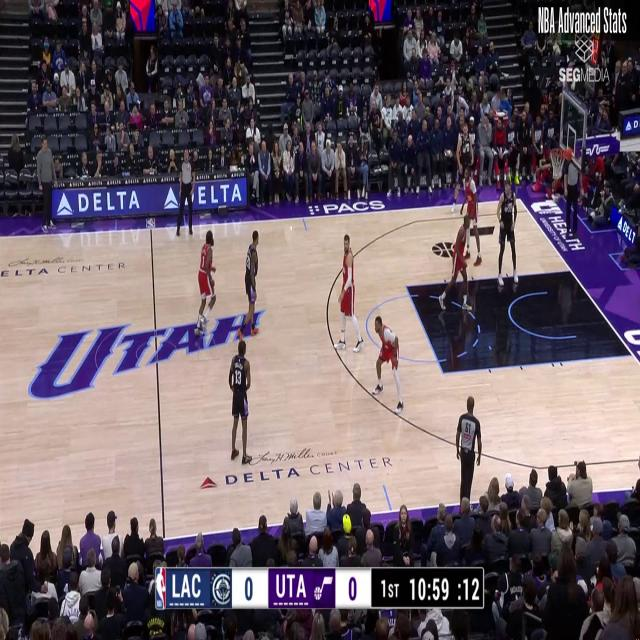judge: (454, 395, 476, 509), (455, 398, 481, 493), (174, 146, 196, 238), (565, 161, 581, 236)
player: (438, 210, 474, 318), (335, 237, 362, 355), (496, 182, 523, 290), (229, 340, 251, 464), (377, 314, 404, 407), (193, 234, 216, 339), (459, 165, 482, 266), (493, 180, 514, 288), (451, 124, 476, 213), (240, 232, 260, 342), (454, 120, 475, 218)
